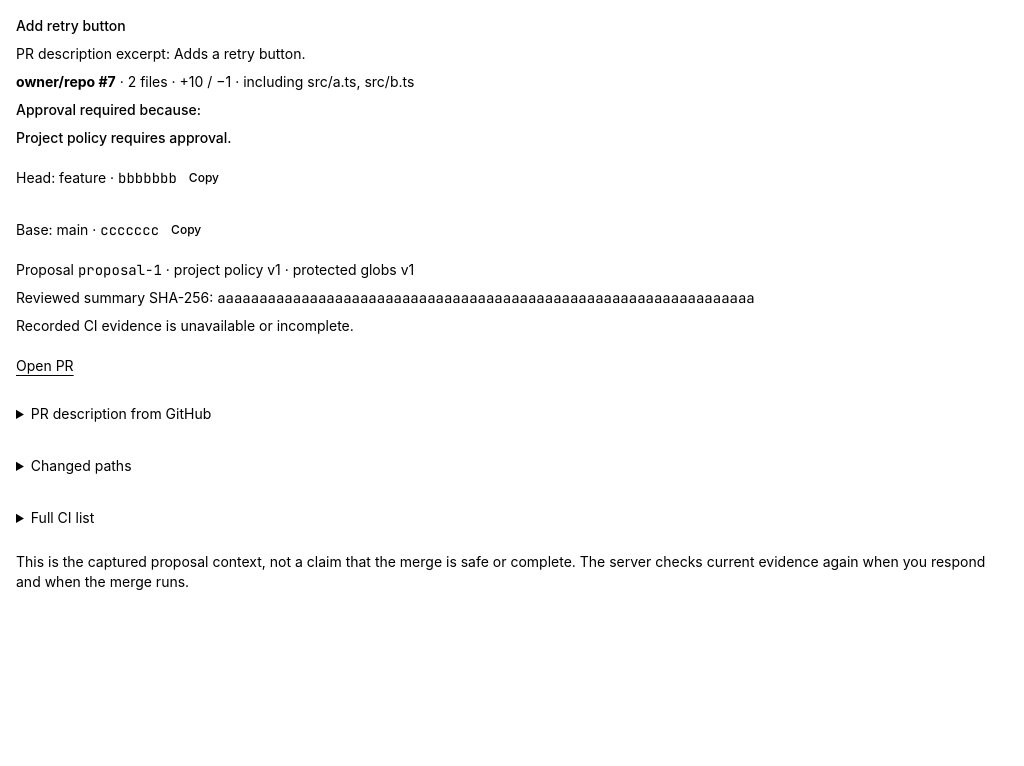
Scenario: detail paging › keeps already loaded items when a later page fails
Click the heading "Changed paths" at (81, 466), box [31, 457, 132, 474]
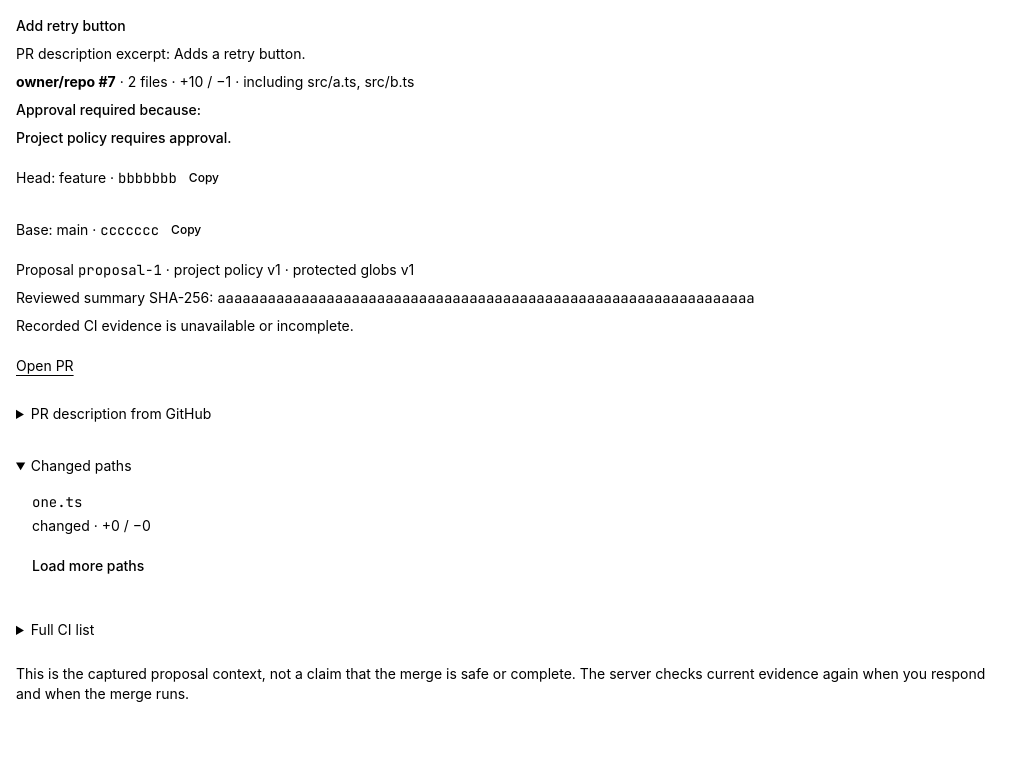
Result: the text "one.ts" is shown at [32, 493, 82, 511]
Click the button "Load more paths" at (88, 566), box [16, 544, 160, 588]
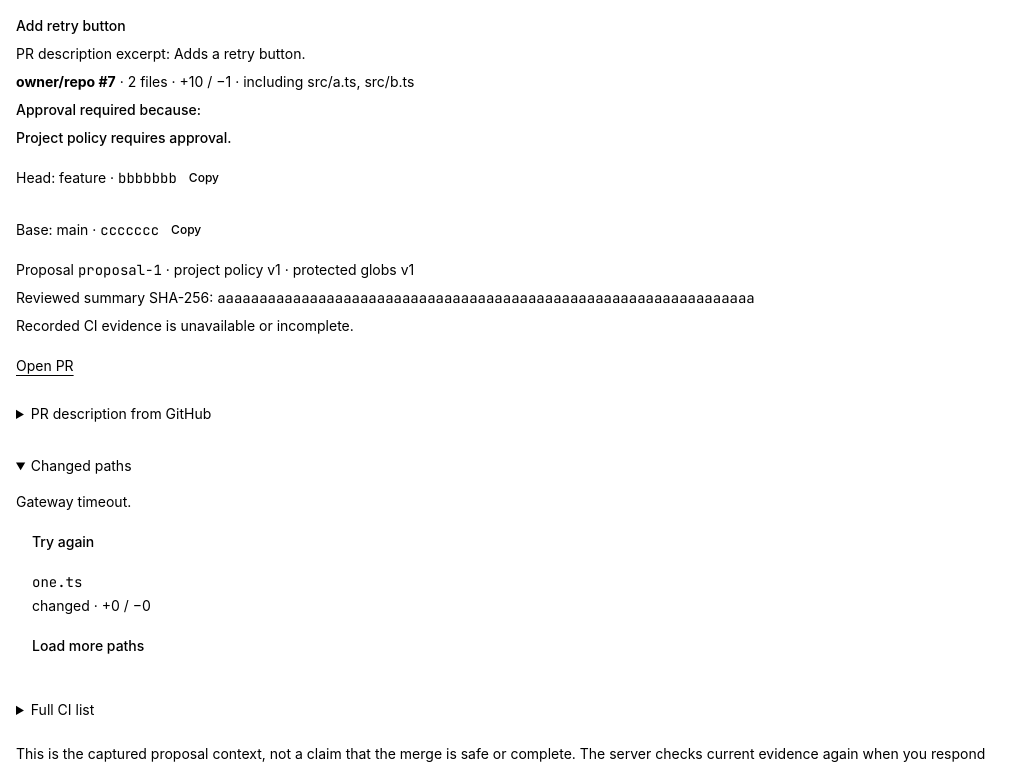
Result: the text "one.ts" is shown at [32, 573, 82, 591]
Result: the message reads "Gateway timeout." at [16, 493, 131, 510]
